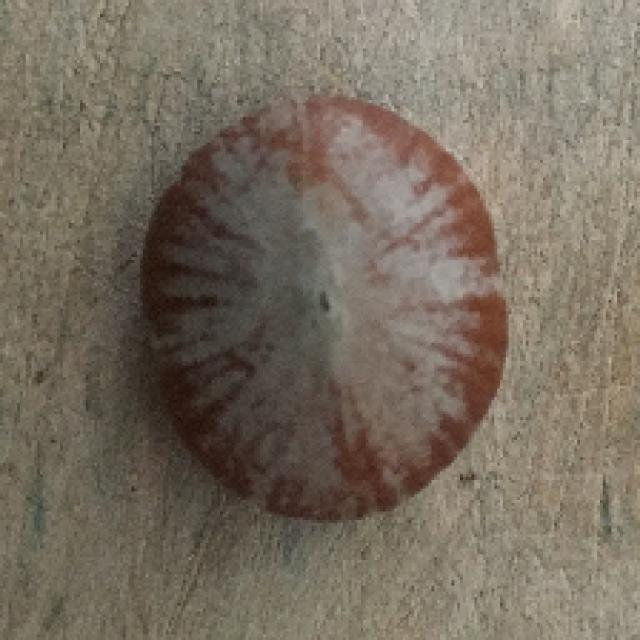qualityHazelnut: (136, 89, 507, 528)
